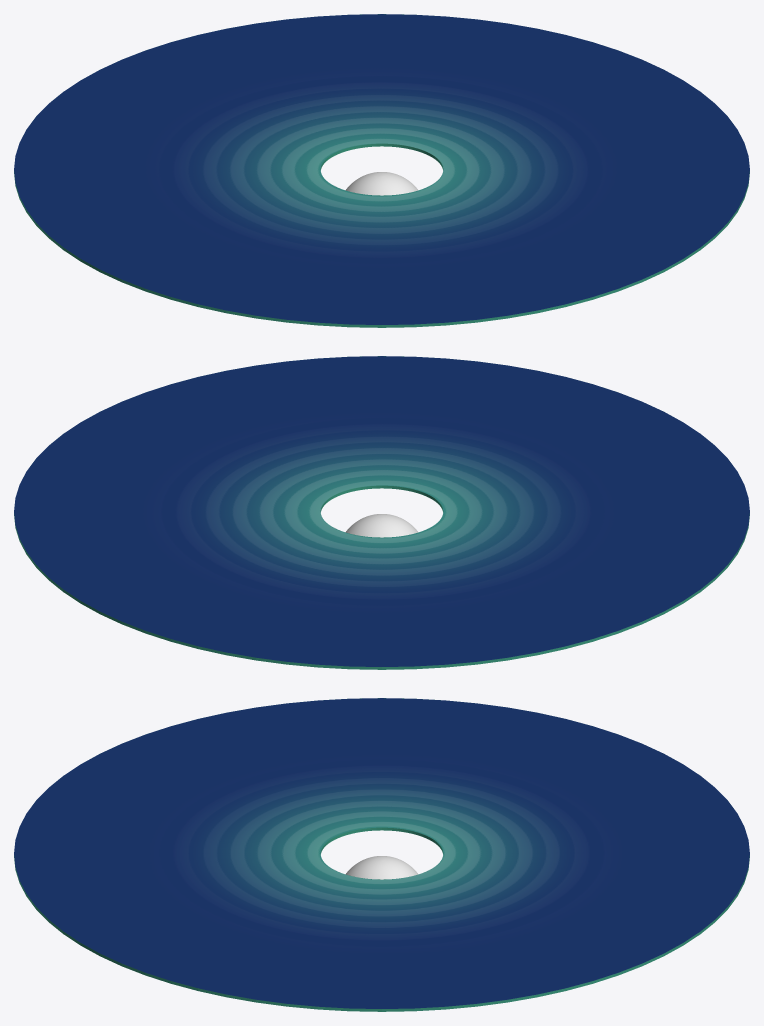
File: DropOff_v2.fbx
3 views of the same model, one above another, from view 1: azimuth 30°, elevation 25°; view 2: azimuth 150°, elevation 25°; view 3: azimuth 270°, elevation 25° (orthographic).
Visible parts, largest first — view 1: DropOff_ground, Clouds; view 2: DropOff_ground, Clouds; view 3: DropOff_ground, Clouds.
Boxes of the visible parts, x1=… form: DropOff_ground: x1=14, y1=14, x2=749, y2=327; Clouds: x1=345, y1=172, x2=418, y2=195; DropOff_ground: x1=14, y1=356, x2=749, y2=669; Clouds: x1=345, y1=514, x2=418, y2=537; DropOff_ground: x1=14, y1=698, x2=749, y2=1011; Clouds: x1=345, y1=856, x2=418, y2=879.
Bounding box in the file's own units: 4800 × 645 × 4800.
3 materials, 1 textured.
